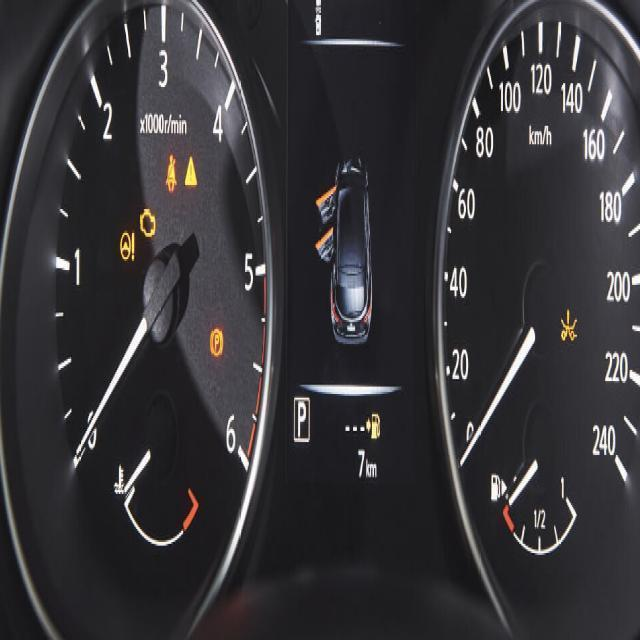Electronic Power Steering: (116, 228, 138, 262)
Seat Belt: (161, 152, 179, 195)
